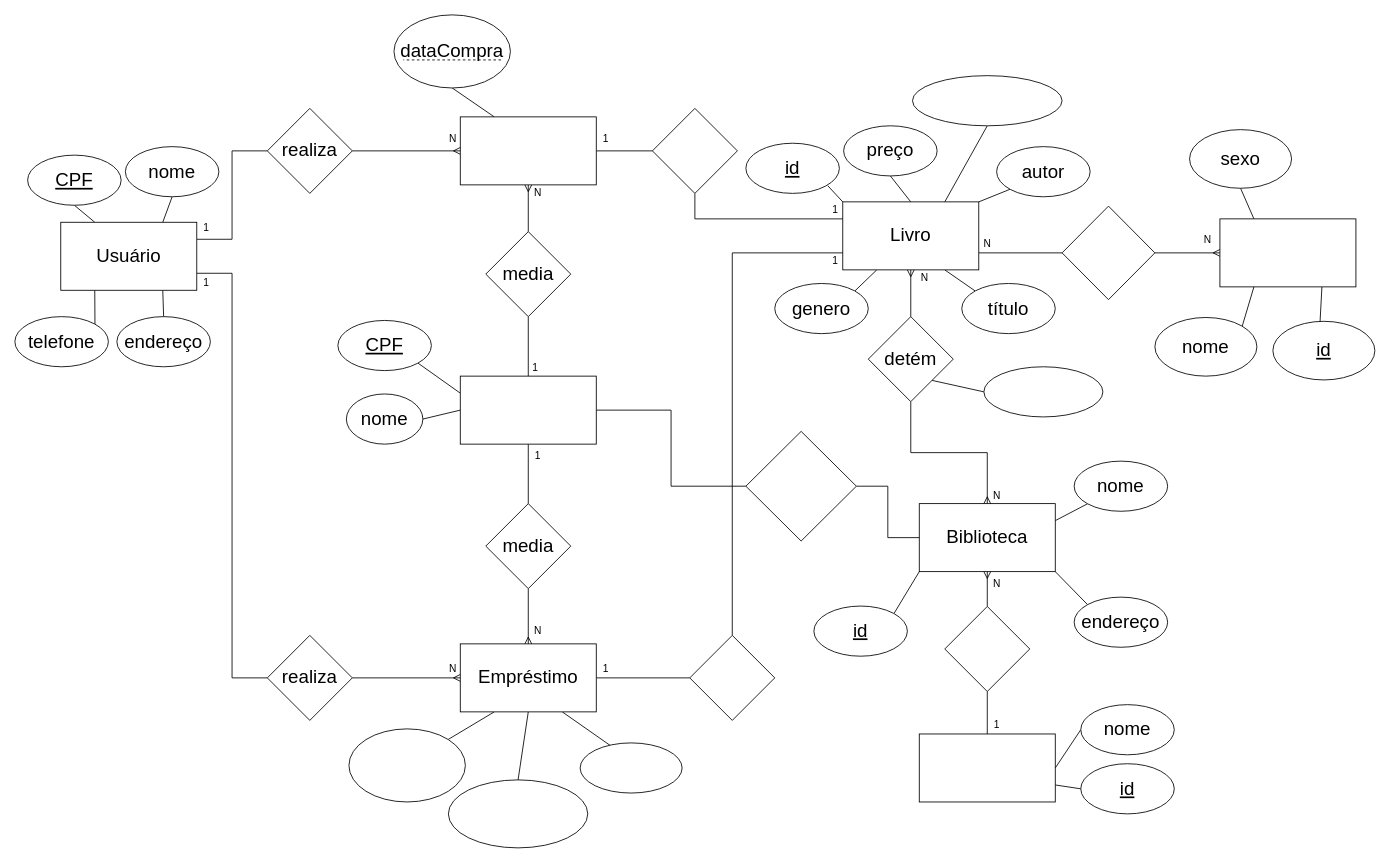
Image size: 1390x863. Some labels were removed from this diagram. Here are the shapes that lost their labels. From the top down, the box of each, then its label:
(912, 75, 1062, 126): dataPublicacao
(459, 116, 596, 185): Compra
(652, 108, 737, 193): adquire
(1061, 205, 1155, 300): participa
(1219, 218, 1356, 287): Personagem
(459, 375, 596, 444): Funcionário
(983, 366, 1103, 417): quantidade
(745, 431, 856, 541): trabalha para
(944, 606, 1030, 691): possui
(689, 635, 775, 720): aluga
(348, 728, 465, 802): dataLocacao
(579, 742, 682, 793): valorPagar
(918, 733, 1055, 802): Universidade
(448, 779, 588, 848): dataDevolucao
